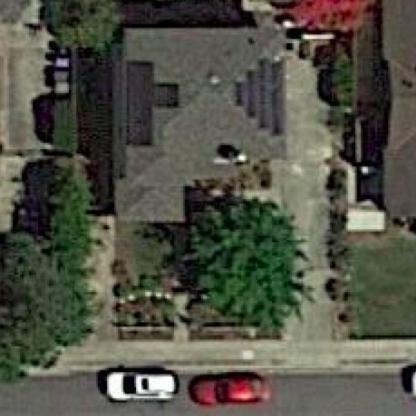car: (186, 369, 271, 416), (94, 364, 182, 405)
solar_panel: (117, 51, 183, 148), (227, 46, 283, 136)
